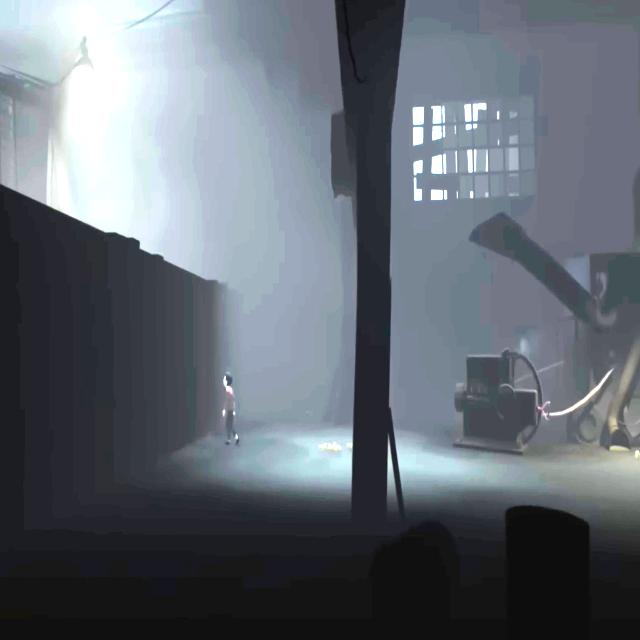boy: (221, 372, 239, 448)
